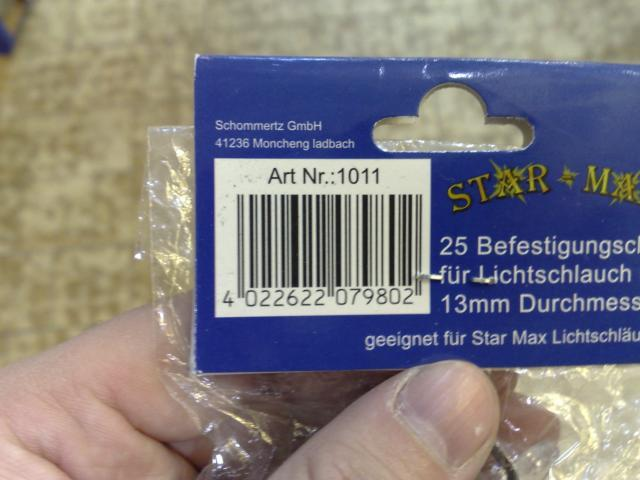Barcode: (215, 191, 433, 315)
